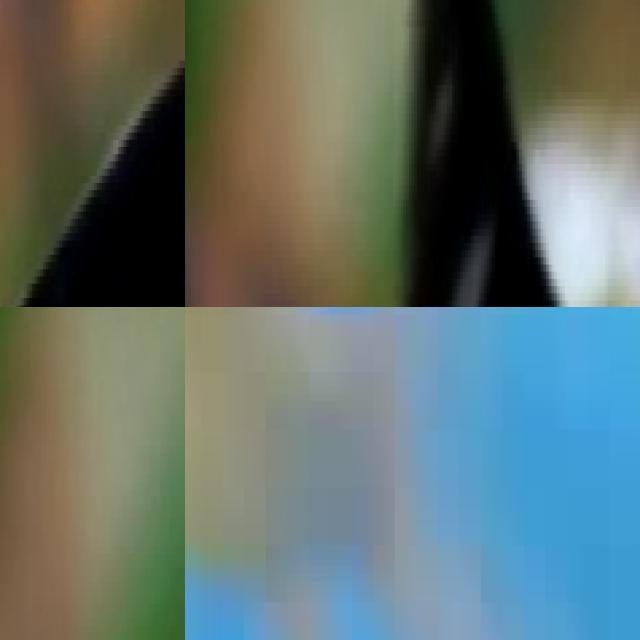fish: (185, 307, 572, 640), (0, 0, 185, 307)
